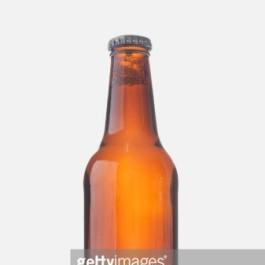beer: (82, 34, 177, 265)
